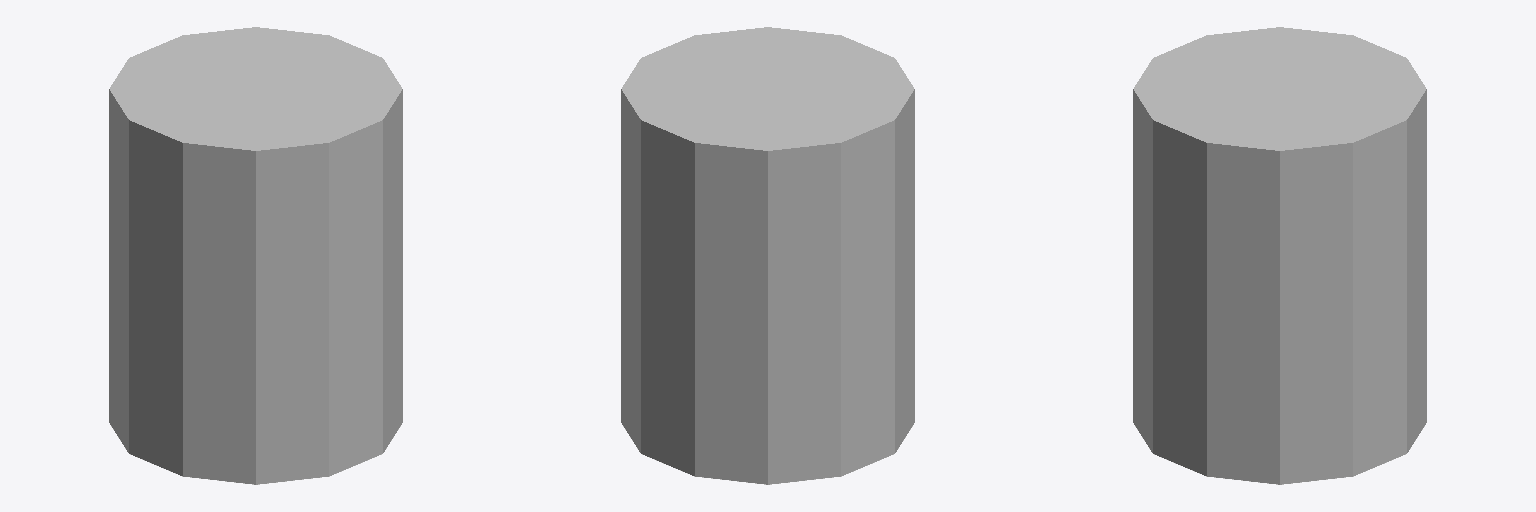
The model's file is mynewcan.obj.
The picture shows the model from 3 angles: view 1: azimuth 30°, elevation 25°; view 2: azimuth 150°, elevation 25°; view 3: azimuth 270°, elevation 25°; orthographic projection.
Visible parts, largest first — view 1: Cylinder05; view 2: Cylinder05; view 3: Cylinder05.
Part boxes in pixels (x1,y1,x2,y2): Cylinder05: (109,27,402,484); Cylinder05: (621,27,914,484); Cylinder05: (1133,27,1426,484).
Size of the model in its own units: 40 by 50.2 by 40.